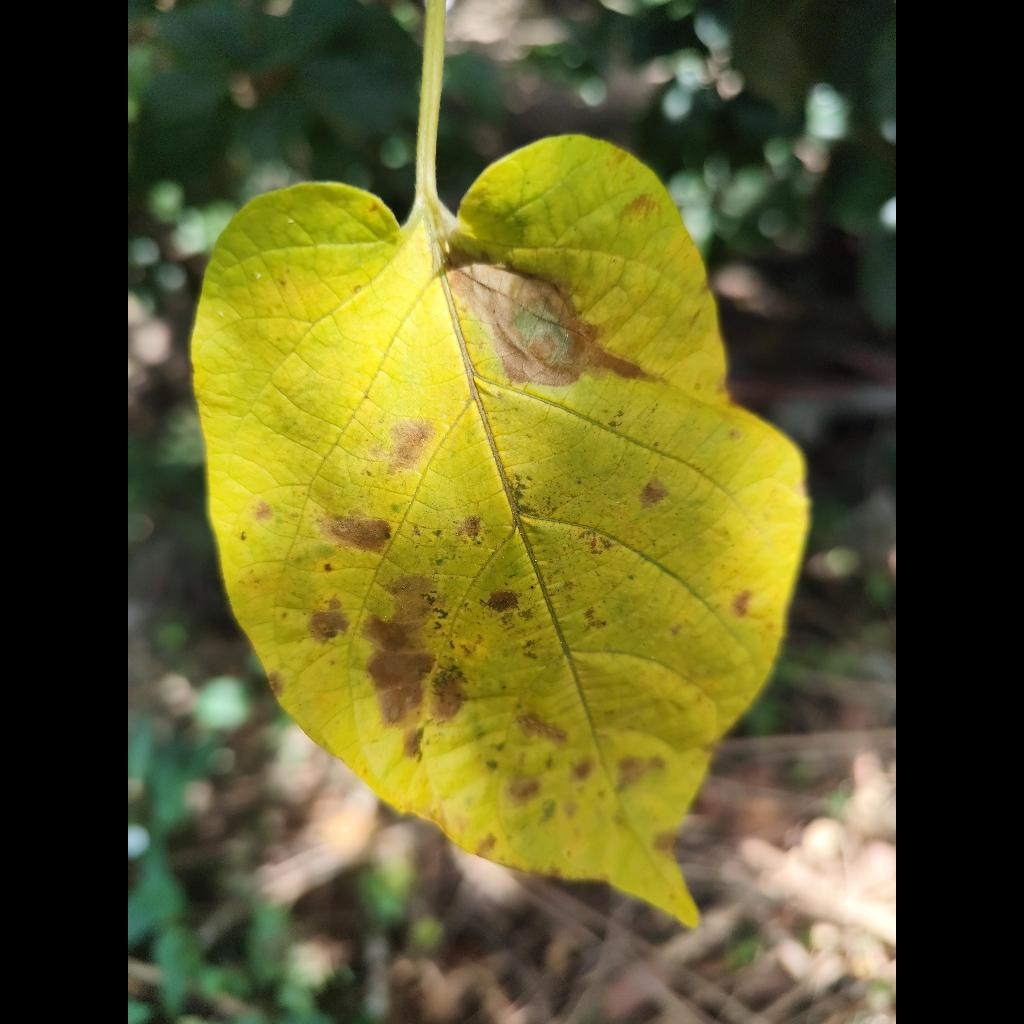deficiencia_nutricional: (193, 0, 807, 924)
